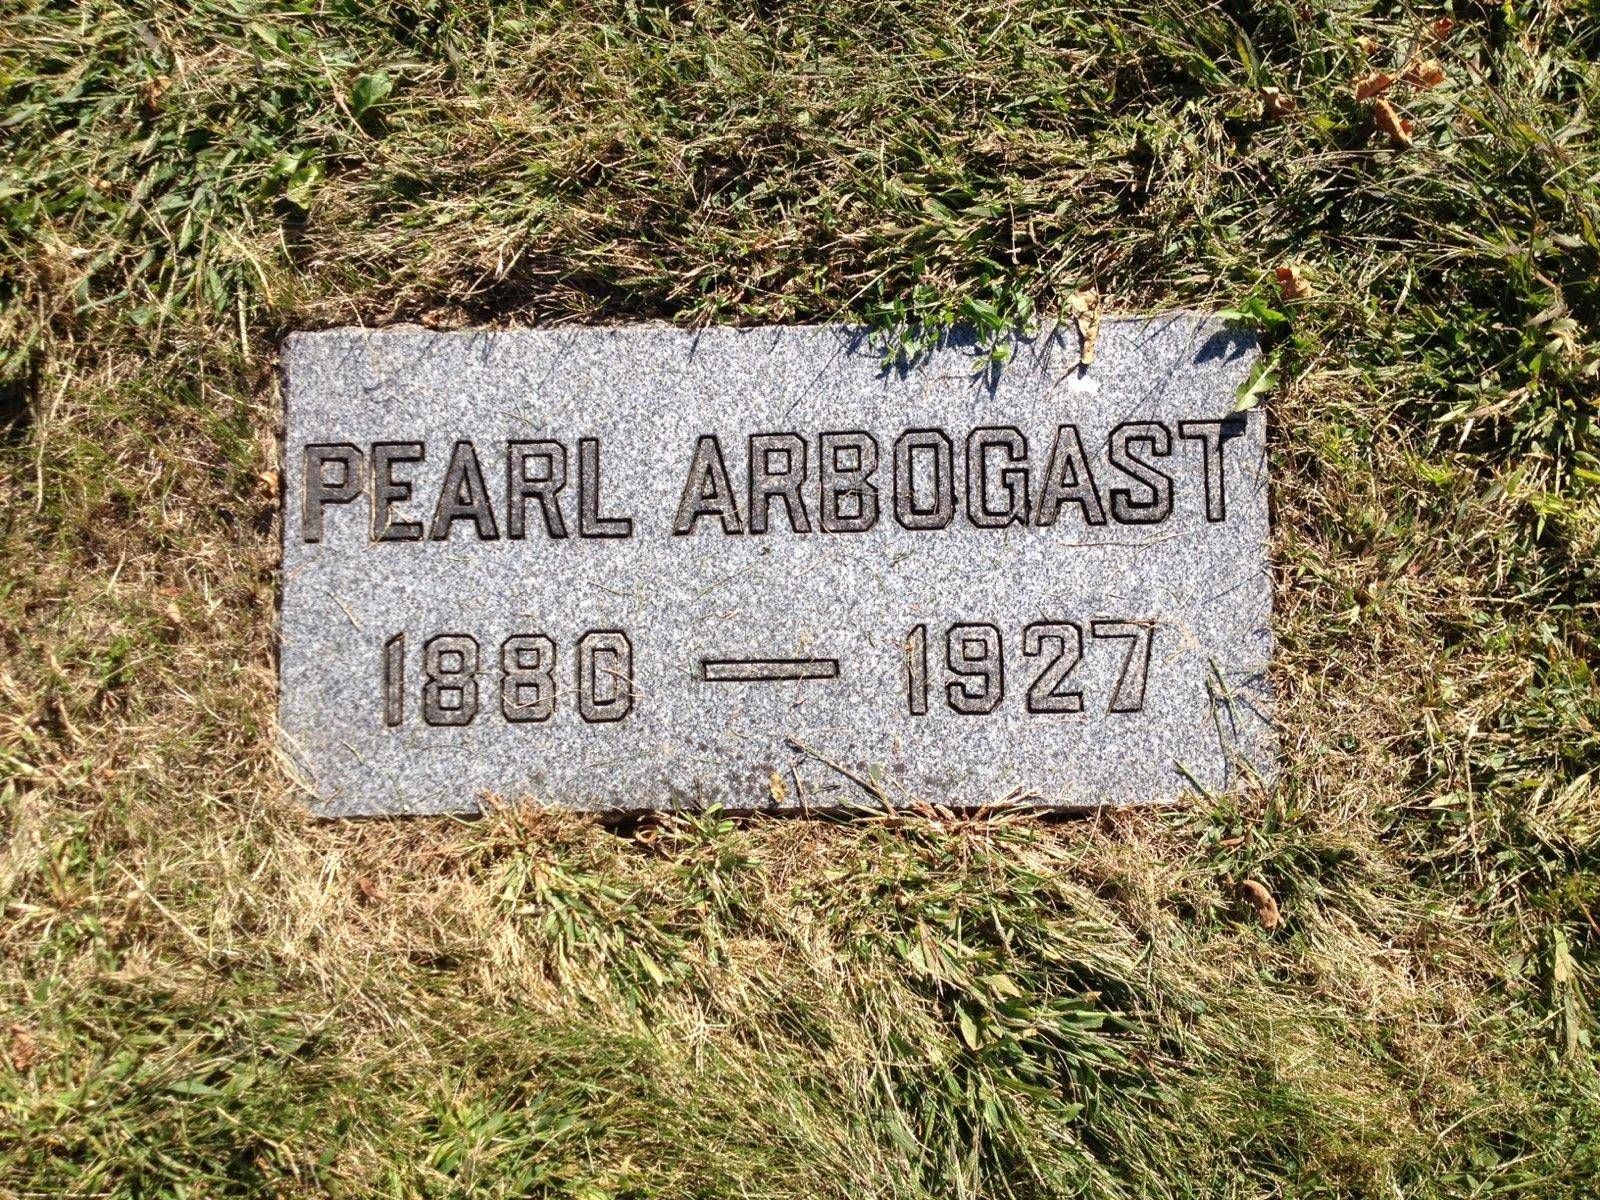flat: (253, 304, 1311, 841)
